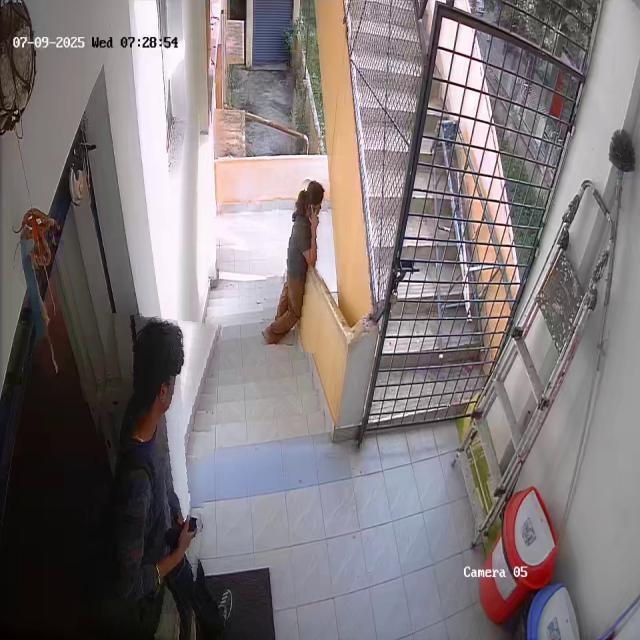person: (84, 315, 215, 640), (263, 178, 327, 352)
